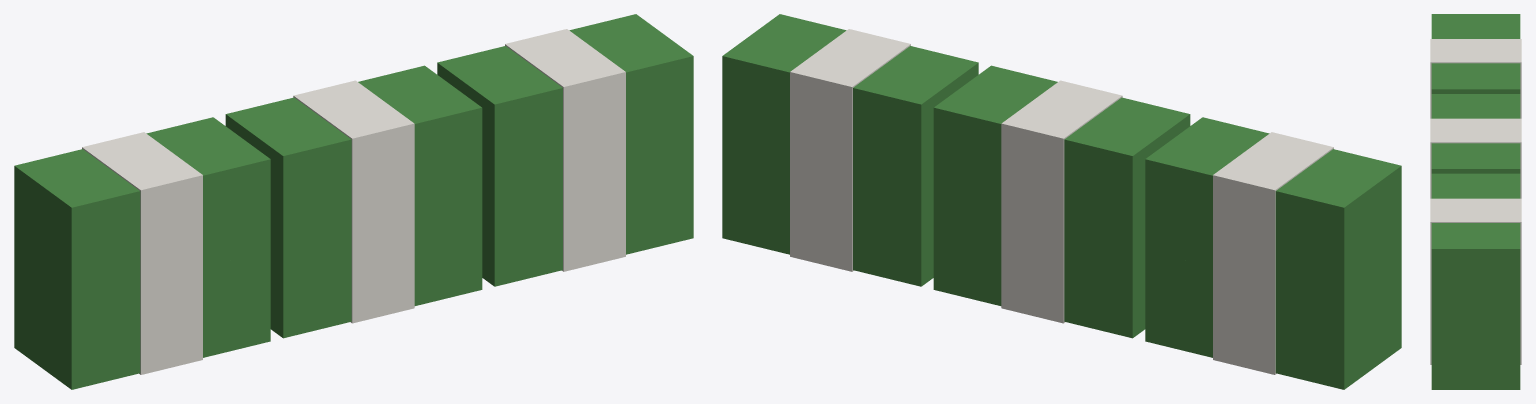
File: cashStack.glb
The picture shows the model from 3 angles, left to right: view 1: azimuth 30°, elevation 25°; view 2: azimuth 150°, elevation 25°; view 3: azimuth 270°, elevation 25°; orthographic projection. The views are drawn at different scales.
Visible parts, largest first — view 1: cashStack-4f8f4a, cashStack-e9e6df; view 2: cashStack-4f8f4a, cashStack-e9e6df; view 3: cashStack-4f8f4a, cashStack-e9e6df.
Boxes of the visible parts, bbox=[...] form: cashStack-4f8f4a: bbox=[14, 14, 693, 389]; cashStack-e9e6df: bbox=[82, 29, 625, 374]; cashStack-4f8f4a: bbox=[722, 14, 1401, 389]; cashStack-e9e6df: bbox=[790, 29, 1333, 374]; cashStack-4f8f4a: bbox=[1431, 14, 1520, 389]; cashStack-e9e6df: bbox=[1430, 39, 1521, 364].
Size of the model in its own units: 0.5 by 0.142 by 0.082.
